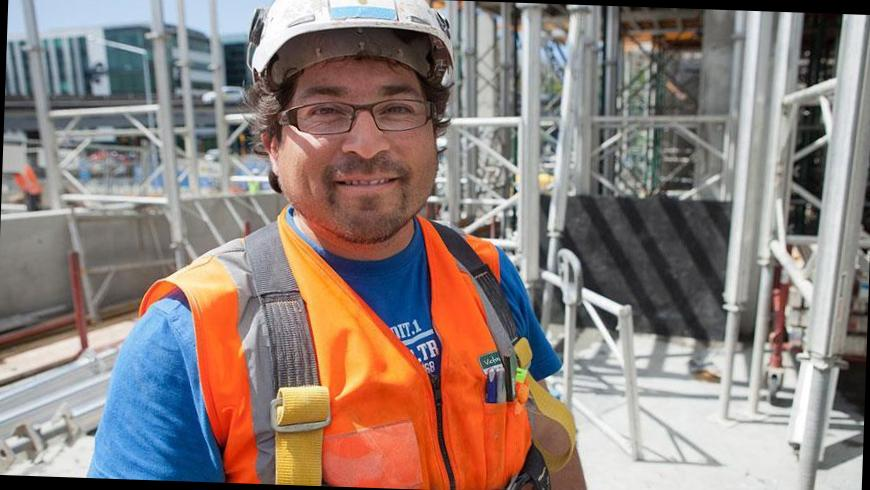Helmet: (214, 0, 470, 100)
Vest: (139, 227, 539, 490)
